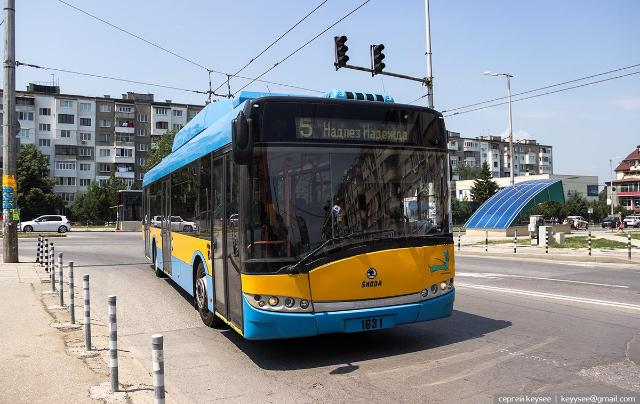bus: (140, 87, 457, 354)
car: (17, 213, 73, 238)
